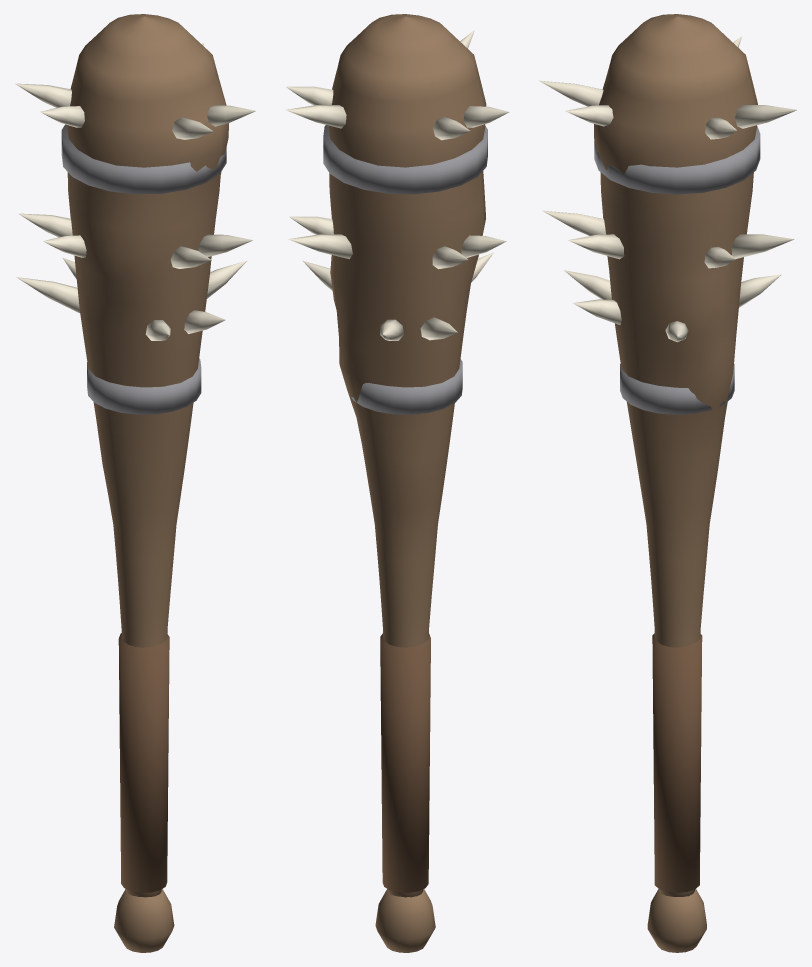
The model's file is ghorman_club.glb.
The picture shows the model from 3 angles, left to right: view 1: azimuth 30°, elevation 25°; view 2: azimuth 150°, elevation 25°; view 3: azimuth 270°, elevation 25°; orthographic projection.
Visible parts, largest first — view 1: ghorman_club; view 2: ghorman_club; view 3: ghorman_club.
Part boxes in pixels (<box>): ghorman_club: <box>15,14,255,952</box>; ghorman_club: <box>286,14,509,952</box>; ghorman_club: <box>539,14,796,952</box>.
Bounding box in the file's own units: 0.3012 × 1.29 × 0.3259.
